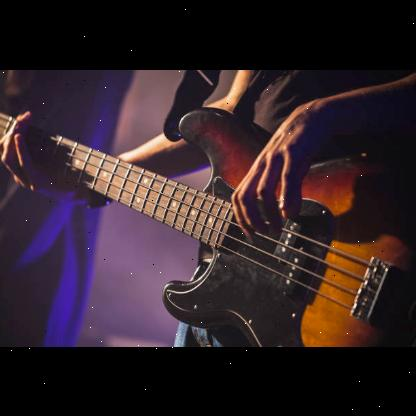bass: (0, 106, 416, 346)
